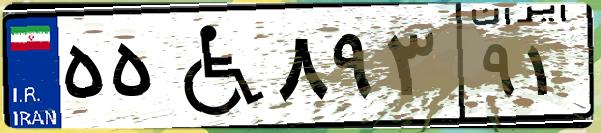1: (525, 38, 570, 115)
3: (385, 28, 445, 110)
5: (57, 26, 110, 100), (110, 28, 158, 98)
8: (270, 28, 330, 110)
9: (330, 28, 385, 110), (475, 38, 525, 113)
ژ (معلولین و جانبازان): (158, 12, 270, 120)
